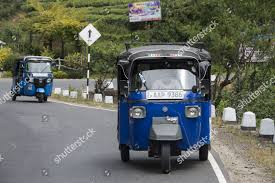tuk tuk: (114, 42, 212, 175), (10, 56, 54, 105)
